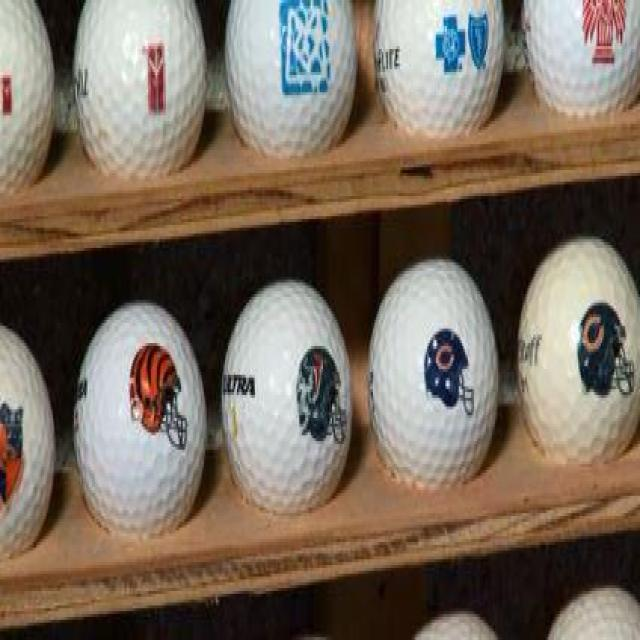ball: (215, 278, 359, 513)
